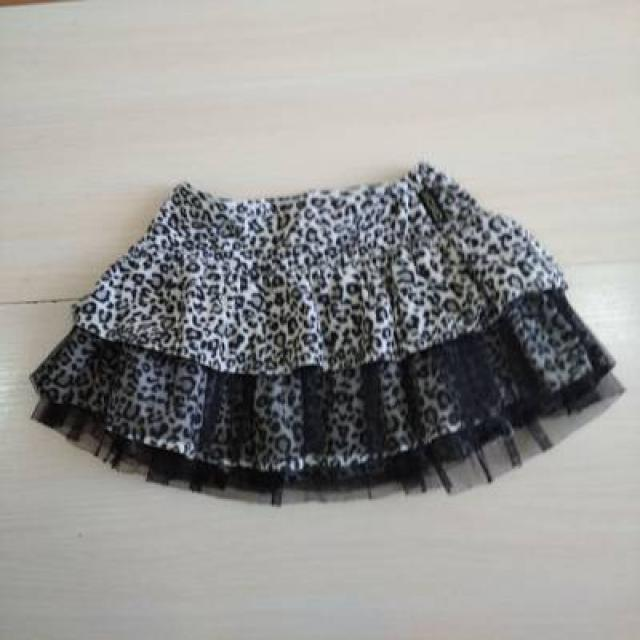Clothes -Biodegradable-: (33, 160, 624, 511)
